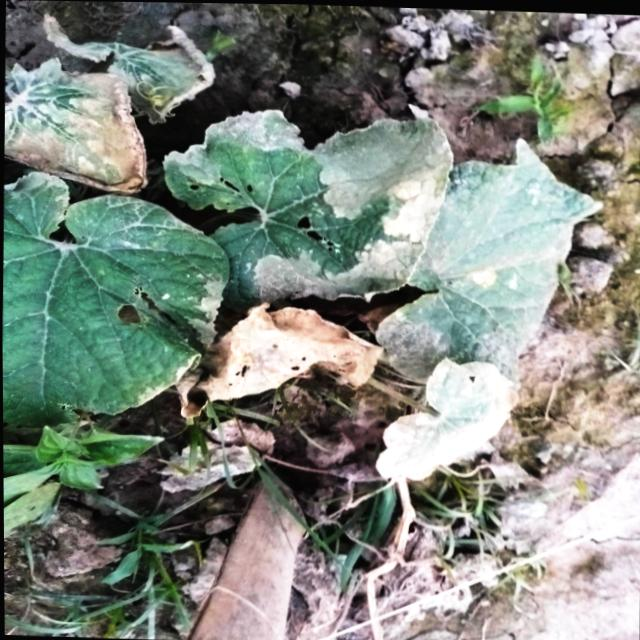Bacterial-Wilt: (3, 12, 217, 194), (174, 298, 386, 423), (371, 355, 523, 484)
